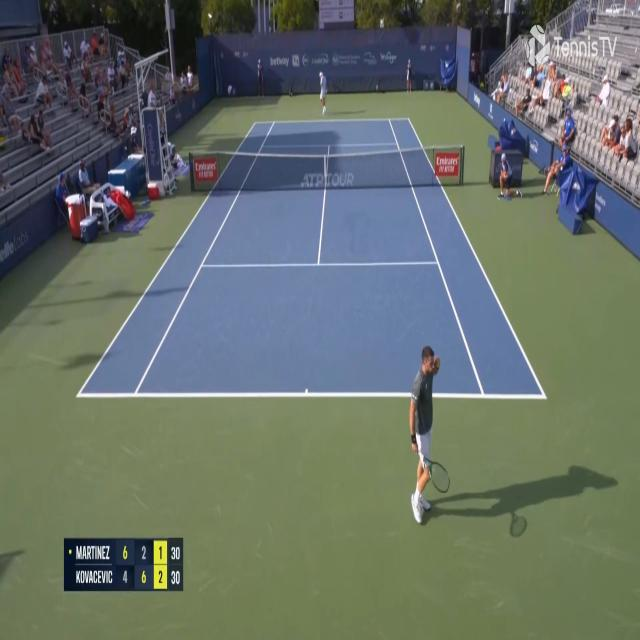tennis-player: (407, 343, 452, 526), (317, 70, 331, 115)
